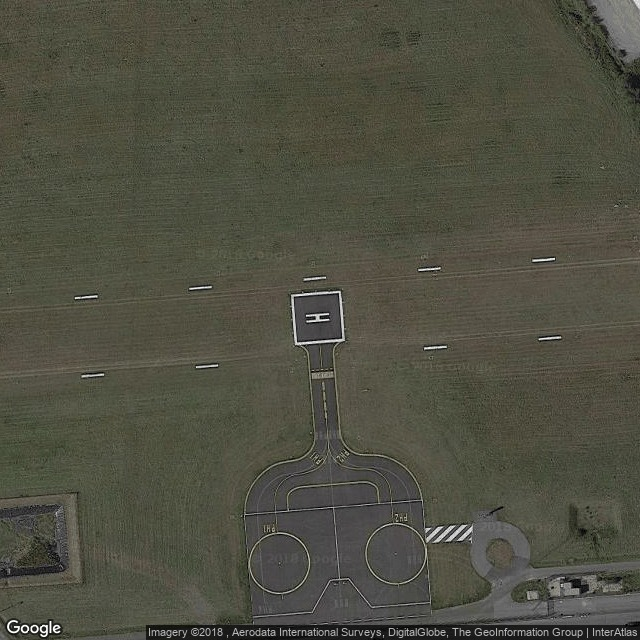heliport: (303, 310, 332, 325)
